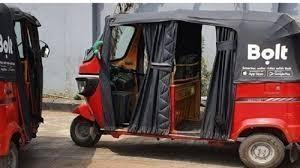keke: (68, 7, 300, 168), (89, 5, 298, 166)
